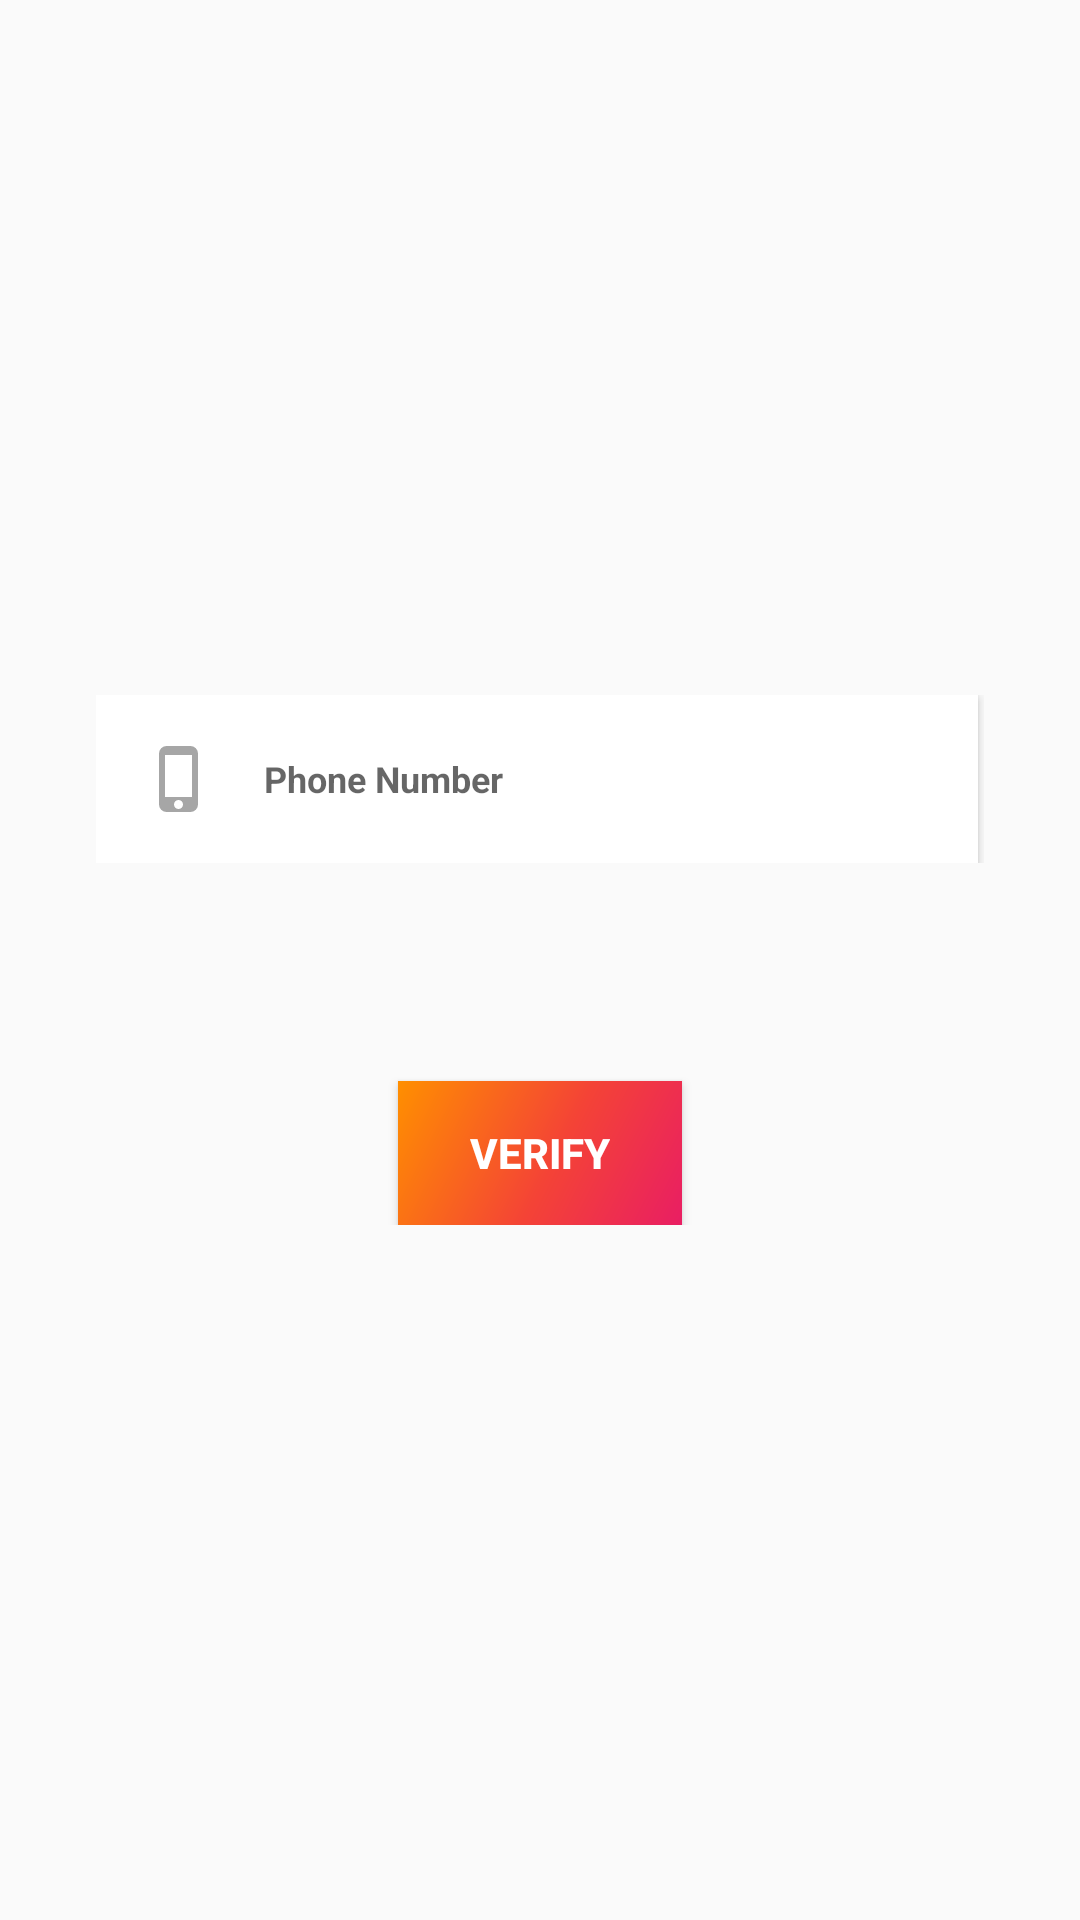

Icon click points for this 1080*1920 phone screenshot, format point (x, y):
phone for verify: point (178, 779)
